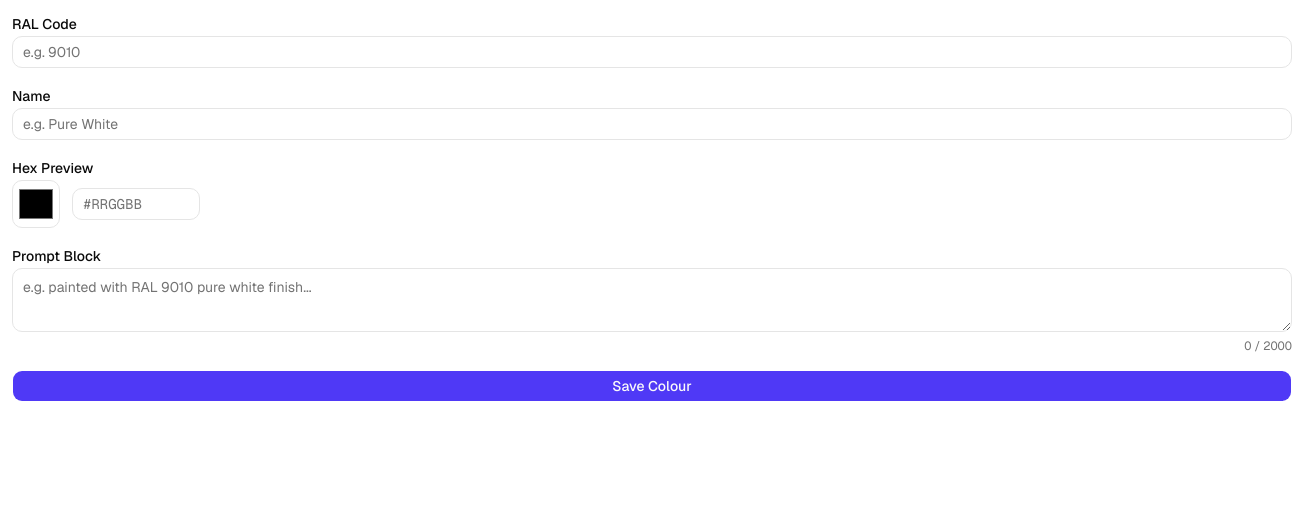
Test case: ColourForm › shows validation errors for empty required fields
Click the button "Save Colour". click: (652, 386)
box: [12,370,1292,402]
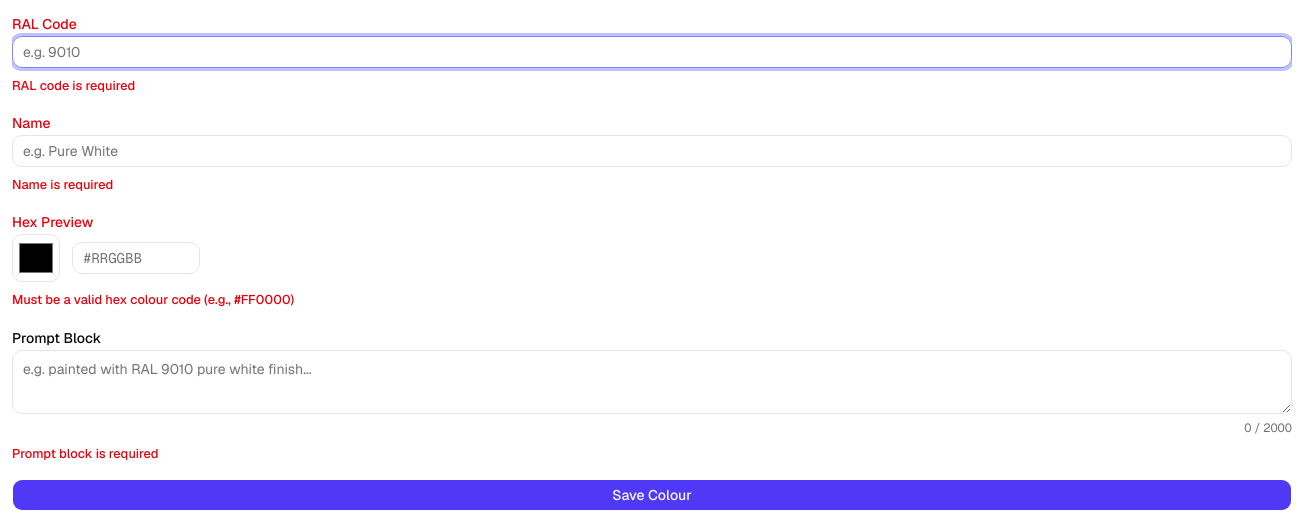
Result: the text "RAL code is required" is shown at [12,77,135,94]
Result: the text "Name is required" is shown at [12,176,113,193]
Result: the text "Prompt block is required" is shown at [12,445,159,462]
